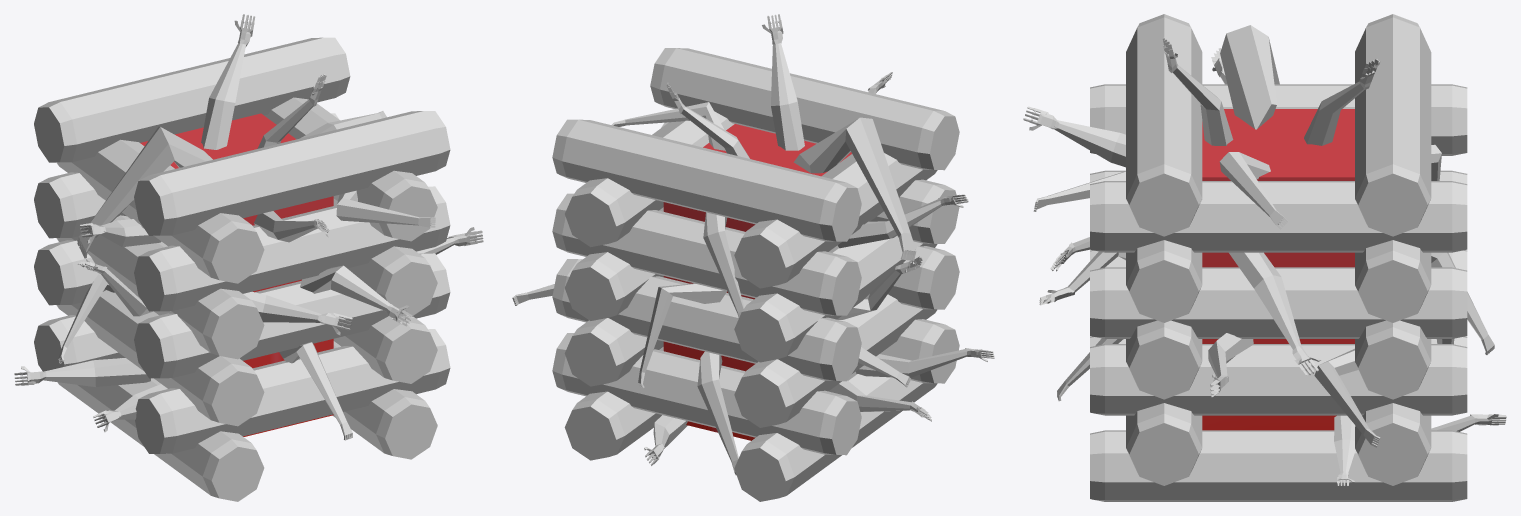
The model's file is corpse tower.fbx.
The picture shows the model from 3 angles, left to right: view 1: azimuth 30°, elevation 25°; view 2: azimuth 150°, elevation 25°; view 3: azimuth 270°, elevation 25°; orthographic projection. The views are drawn at different scales.
Parts seen in each view (by area): view 1: Cylinder.011, Cylinder.009, Cylinder.007, Cylinder.010, Cylinder.006, Cylinder.005, Cylinder.012, Cylinder.001, Cylinder.016, Cylinder.014, Cylinder.004, Cylinder.003 (+20 smaller); view 2: Cylinder.009, Cylinder.011, Cylinder.015, Cylinder.002, Cylinder.008, Cylinder.005, Cylinder.012, Cylinder.001, Cylinder.016, Cylinder.014, leg.006, Cylinder.004 (+18 smaller); view 3: Cylinder.004, Cylinder.014, Cylinder.003, Cylinder.013, Cylinder.009, Cylinder.011, Cubef, Cylinder.012, Cylinder.015, Cylinder.007, Cylinder.010, Cylinder.006 (+17 smaller).
Boxes of the visible parts, x1,y1,x2,y2 form: Cylinder.011: [134, 111, 450, 235]; Cylinder.009: [34, 37, 350, 162]; Cylinder.007: [135, 329, 450, 453]; Cylinder.010: [134, 186, 450, 311]; Cylinder.006: [134, 253, 450, 378]; Cylinder.005: [56, 290, 264, 426]; Cylinder.012: [57, 139, 264, 283]; Cylinder.001: [57, 358, 264, 501]; Cylinder.016: [56, 215, 264, 359]; Cylinder.014: [264, 97, 437, 241]; Cylinder.004: [332, 341, 437, 459]; Cylinder.003: [333, 316, 437, 383]; Cylinder.009: [552, 119, 861, 241]; Cylinder.011: [650, 48, 959, 170]; Cylinder.015: [552, 193, 861, 315]; Cylinder.002: [552, 333, 861, 455]; Cylinder.008: [552, 259, 861, 381]; Cylinder.005: [734, 294, 936, 427]; Cylinder.012: [734, 153, 937, 288]; Cylinder.001: [734, 371, 937, 501]; Cylinder.016: [734, 235, 937, 362]; Cylinder.014: [565, 111, 734, 247]; leg.006: [793, 117, 916, 260]; Cylinder.004: [564, 347, 663, 460]; Cylinder.004: [1090, 430, 1467, 501]; Cylinder.014: [1090, 181, 1467, 252]; Cylinder.003: [1090, 344, 1467, 415]; Cylinder.013: [1090, 267, 1467, 338]; Cylinder.009: [1355, 14, 1431, 236]; Cylinder.011: [1126, 14, 1202, 236]; Cubef: [1202, 109, 1354, 430]; Cylinder.012: [1090, 84, 1467, 155]; Cylinder.015: [1355, 240, 1431, 322]; Cylinder.007: [1126, 403, 1202, 485]; Cylinder.010: [1126, 240, 1202, 322]; Cylinder.006: [1126, 320, 1202, 399].
Size of the model in its own units: 1438 by 1245 by 1267.
